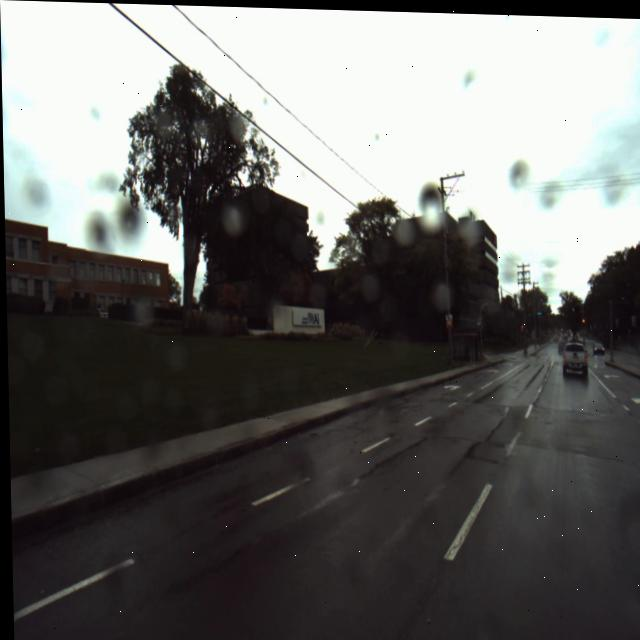car: (561, 338, 586, 377), (591, 338, 605, 352), (637, 338, 640, 353)
trafficLight: (579, 314, 585, 320)
trafficLight-Green: (569, 302, 575, 309), (535, 307, 541, 313)
trafficLight-Red: (519, 321, 522, 329)
